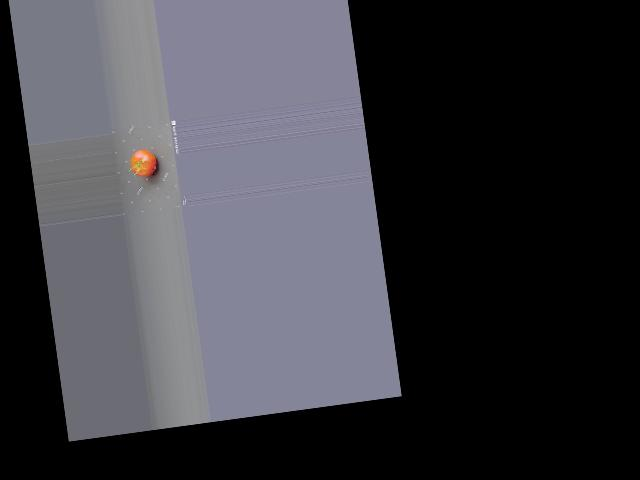tomato: (129, 148, 157, 178)
